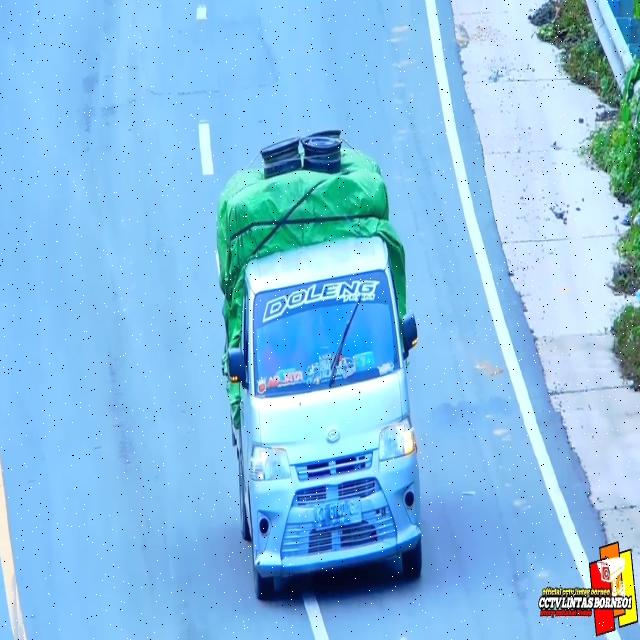Golongan IVB: (226, 237, 424, 602)
